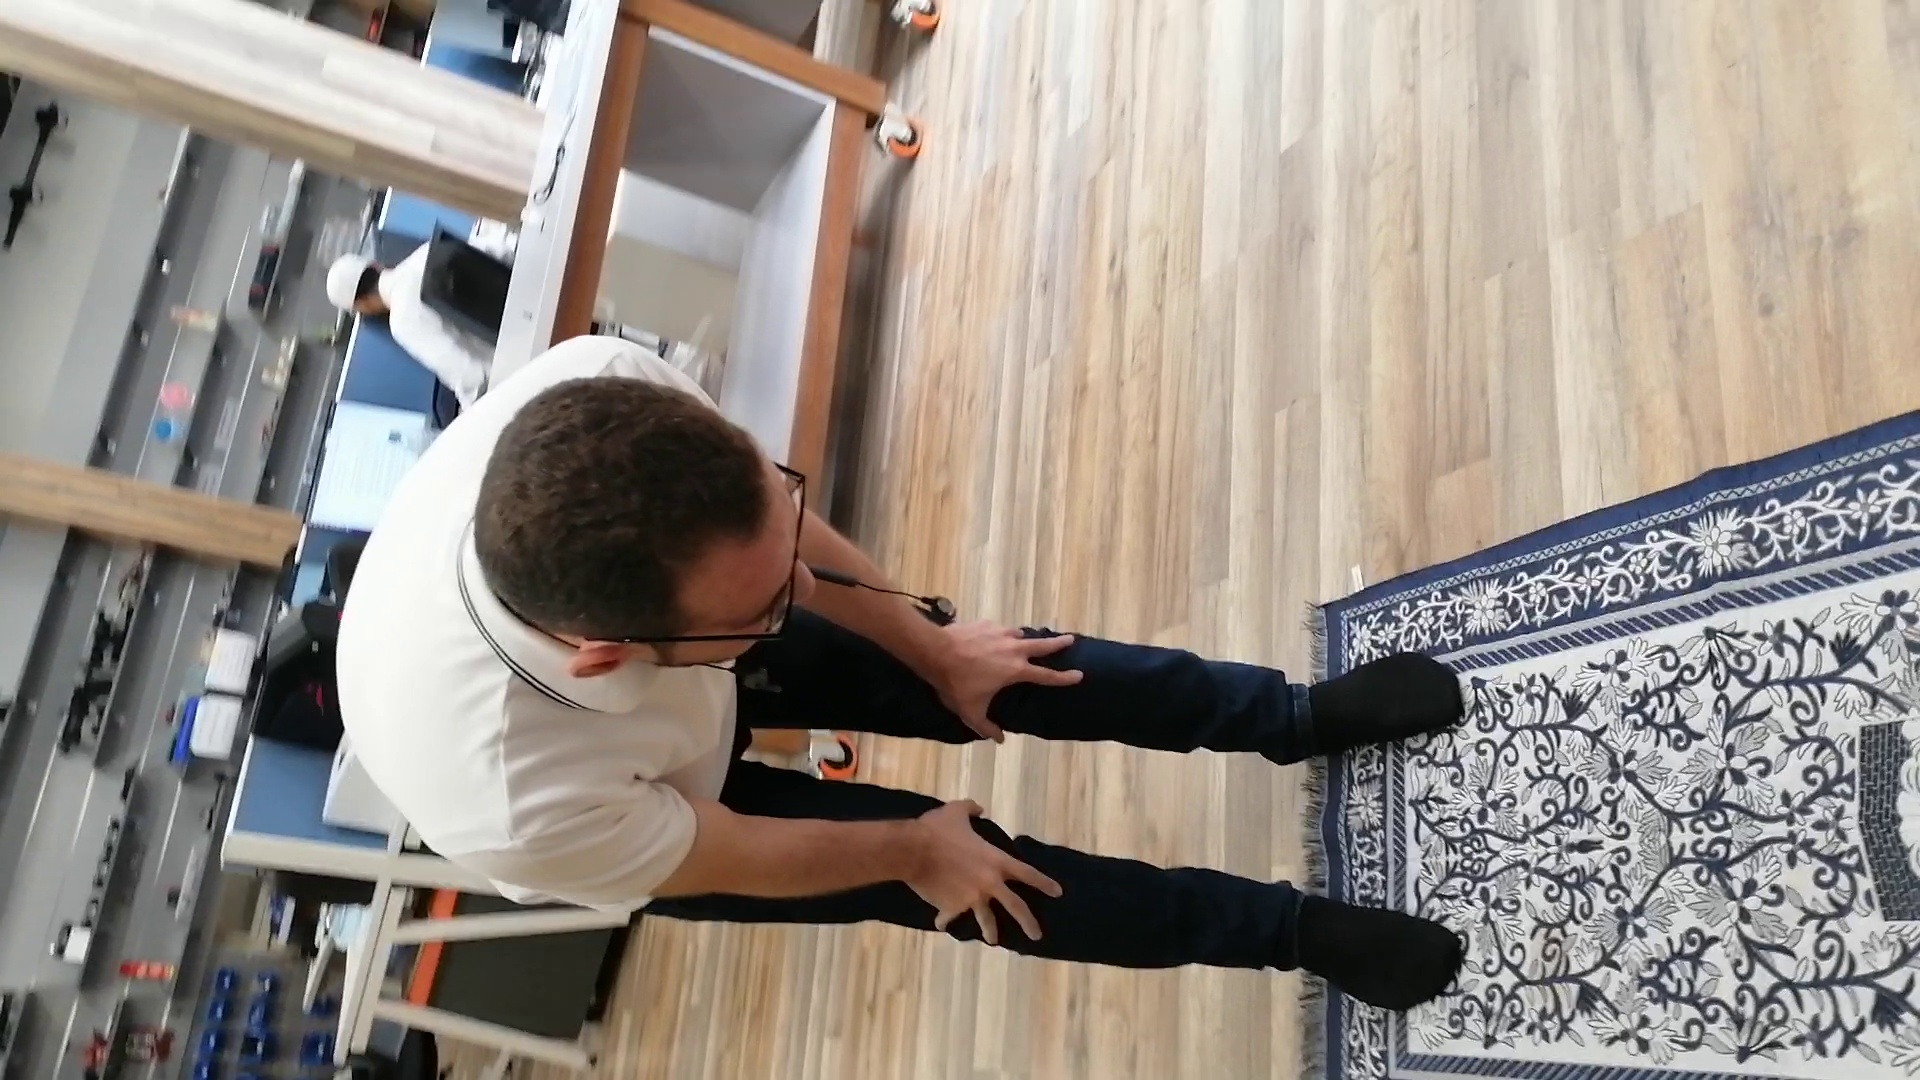ruku: (119, 195, 1636, 1047)
